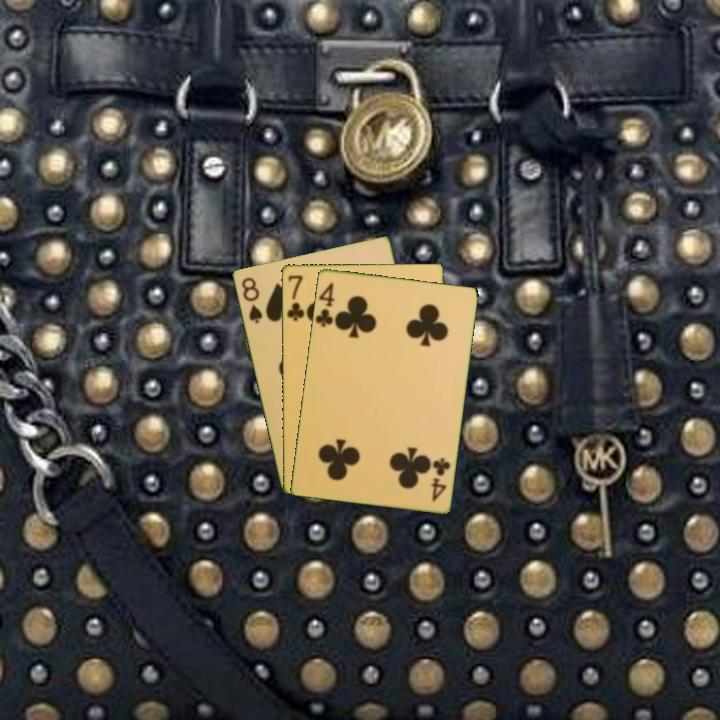4c: (427, 454, 453, 504), (313, 278, 337, 329)
7c: (283, 271, 307, 323)
8s: (238, 273, 265, 326)
